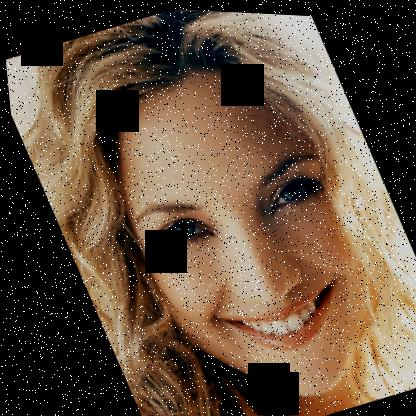Female: (67, 35, 415, 416)
